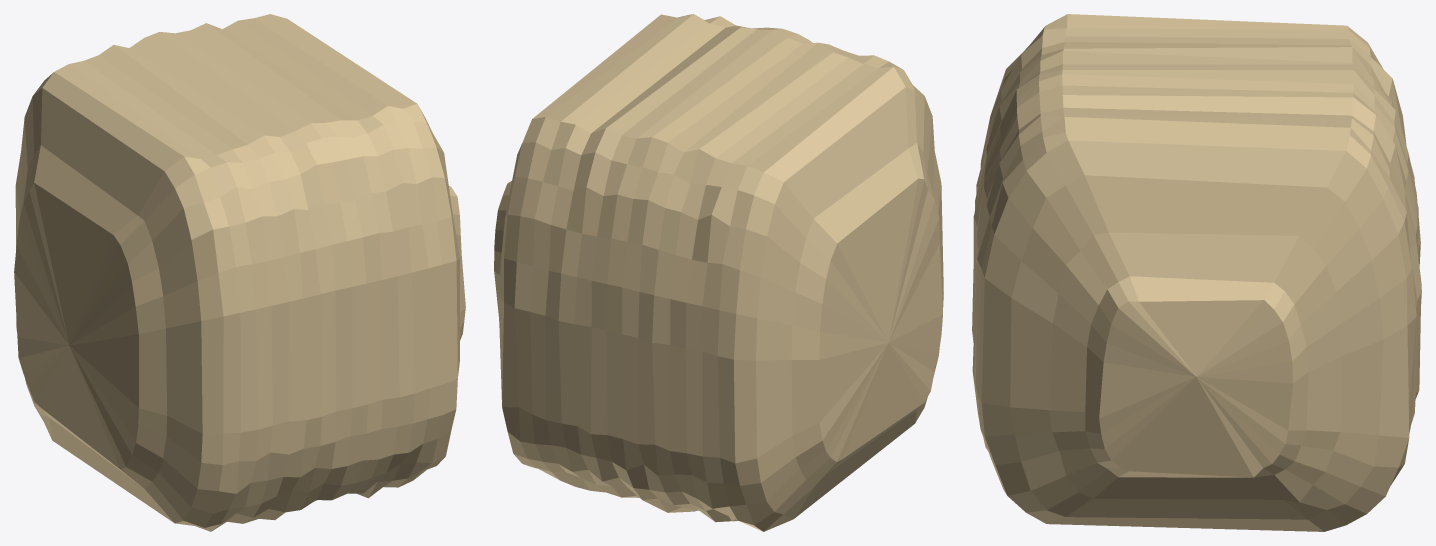
File: sandbag.glb
3 renders of one model, left to right at view 1: azimuth 30°, elevation 25°; view 2: azimuth 150°, elevation 25°; view 3: azimuth 270°, elevation 25°, orthographic. The views are drawn at different scales.
Parts seen in each view (by area): view 1: Sandbag; view 2: Sandbag; view 3: Sandbag.
Part boxes in pixels (box(x1,y1,x2,y2)): Sandbag: box(14, 14, 465, 531); Sandbag: box(494, 14, 943, 531); Sandbag: box(972, 14, 1421, 531).
Size of the model in its own units: 1 by 1 by 1.
